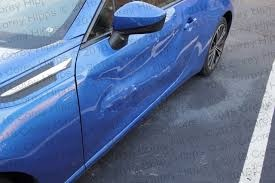Dent: (91, 17, 197, 127)
